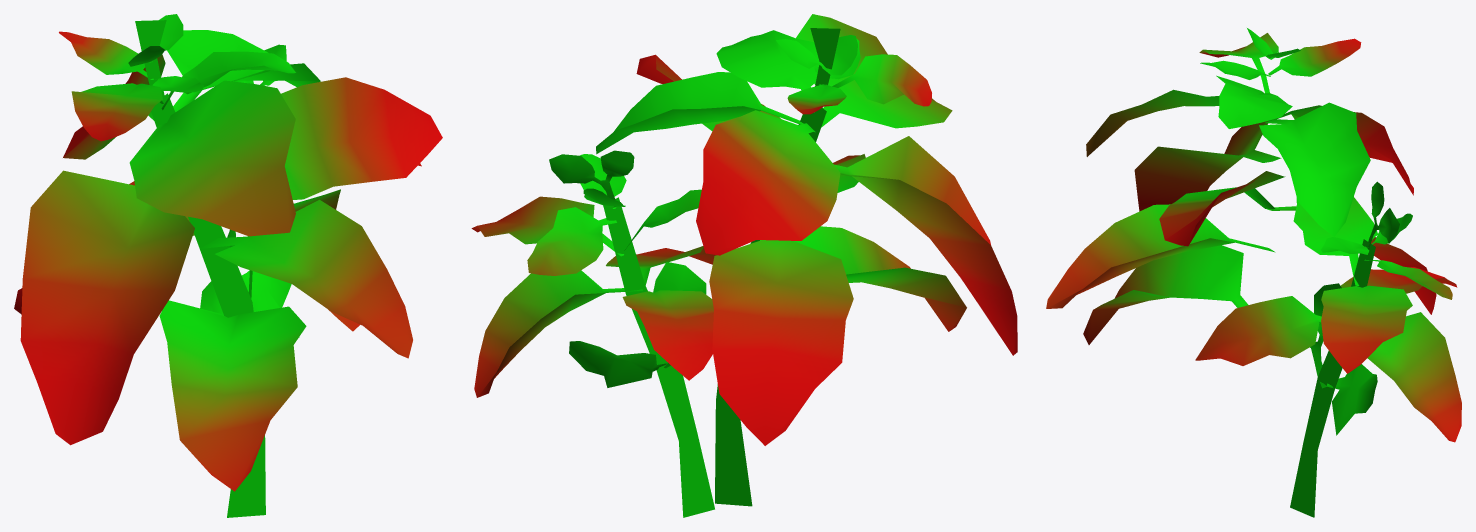
File: Var3_LOD0.fbx
3 views of the same model, side by side, from view 1: azimuth 30°, elevation 25°; view 2: azimuth 150°, elevation 25°; view 3: azimuth 270°, elevation 25° (orthographic). The views are drawn at different scales.
Parts seen in each view (by area): view 1: _9279_Var3_LOD0; view 2: _9279_Var3_LOD0; view 3: _9279_Var3_LOD0.
Part boxes in pixels (<box>): _9279_Var3_LOD0: <box>14,14,442,517</box>; _9279_Var3_LOD0: <box>471,14,1017,517</box>; _9279_Var3_LOD0: <box>1046,28,1461,517</box>.
Size of the model in its own units: 20.51 by 21.53 by 18.08.
